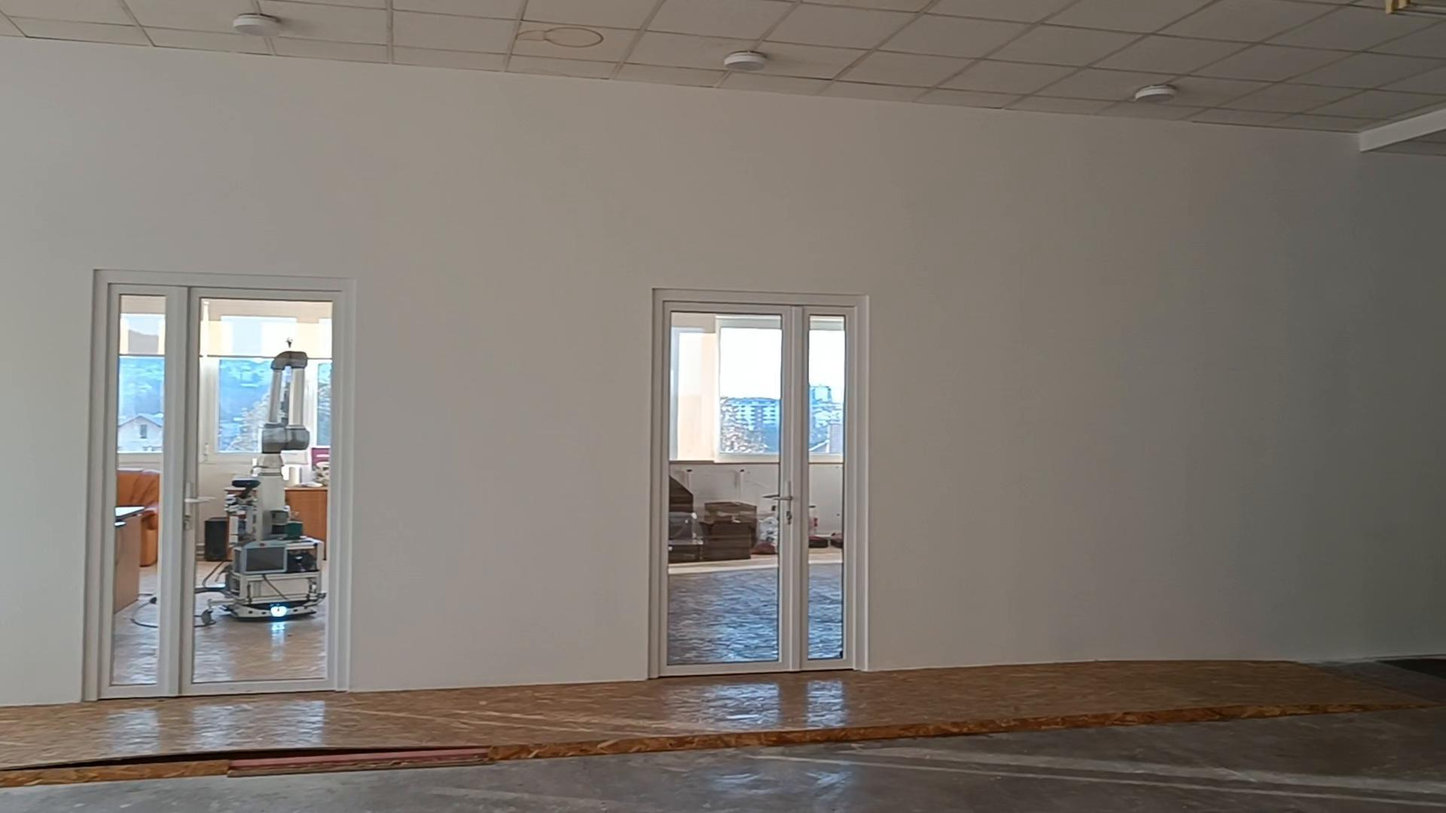ceiling: (0, 0, 1445, 130)
floor: (3, 647, 1445, 812)
wall: (0, 36, 1436, 701)
